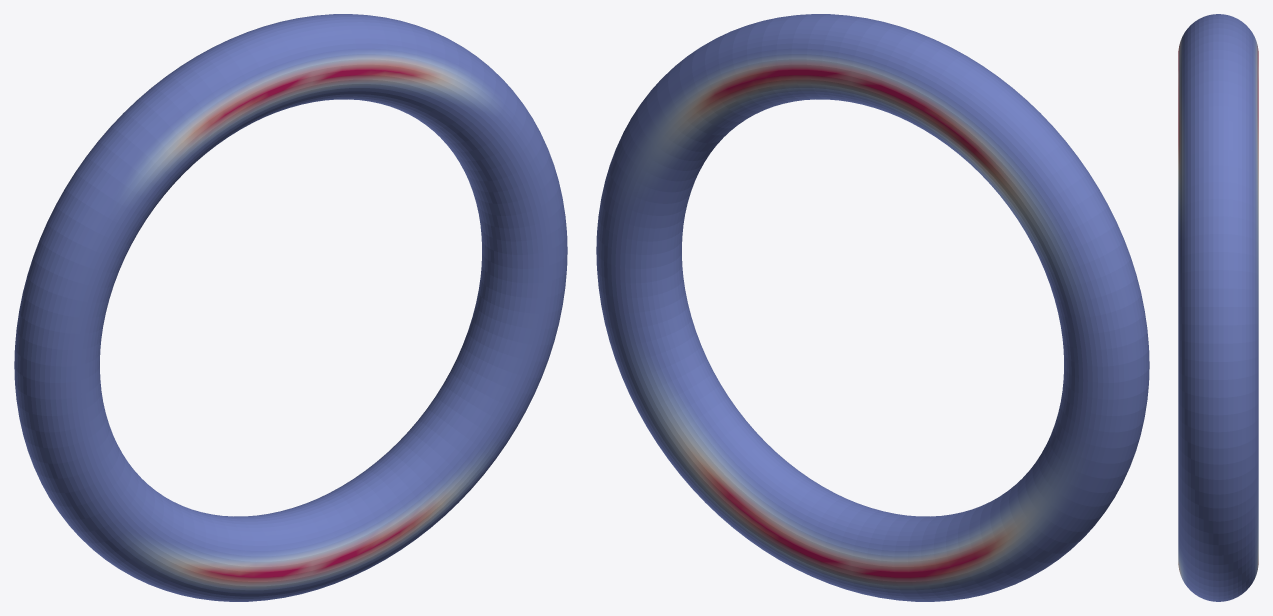
The picture shows the model from 3 angles, left to right: view 1: azimuth 30°, elevation 25°; view 2: azimuth 150°, elevation 25°; view 3: azimuth 270°, elevation 25°; orthographic projection. The views are drawn at different scales.
Visible parts, largest first — view 1: world; view 2: world; view 3: world.
Boxes of the visible parts, left/top/right/bottom form: world: left=14, top=14, right=567, bottom=601; world: left=596, top=14, right=1149, bottom=601; world: left=1178, top=14, right=1258, bottom=601.
Bounding box in the file's own units: 18.53 × 18.53 × 2.53.
